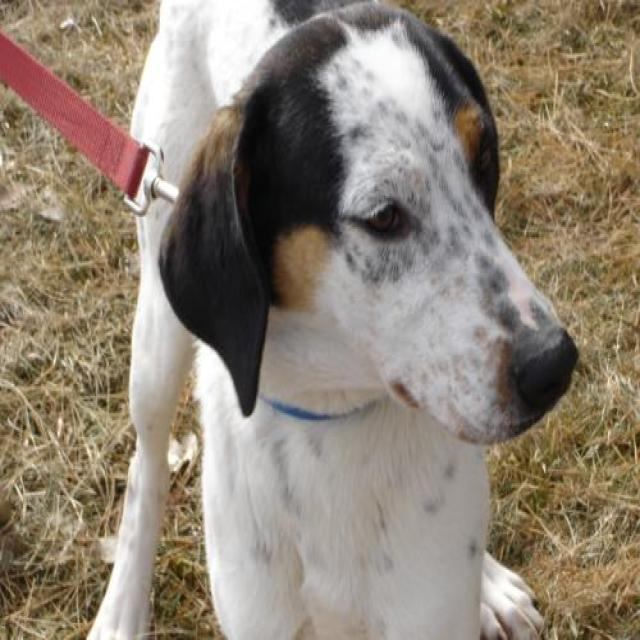Dogs: (74, 0, 578, 638)
